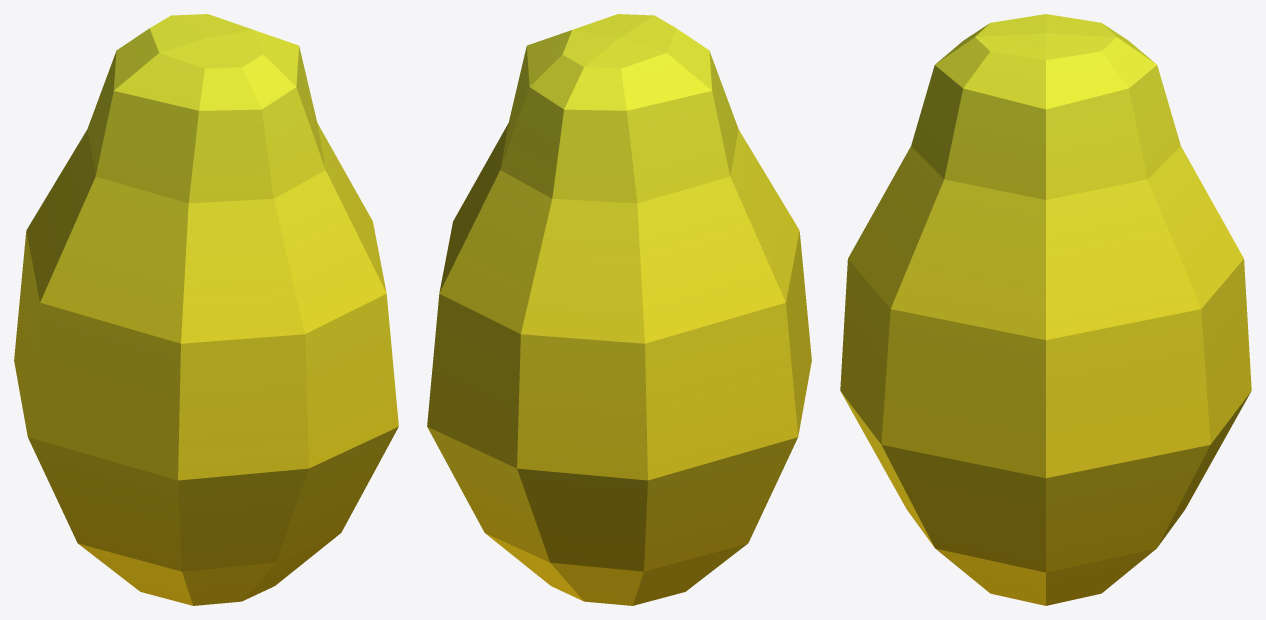
Rendered from Papaya.fbx.
3 renders of one model, left to right at view 1: azimuth 30°, elevation 25°; view 2: azimuth 150°, elevation 25°; view 3: azimuth 270°, elevation 25°, orthographic.
Visible parts, largest first — view 1: Papaya; view 2: Papaya; view 3: Papaya.
Part boxes in pixels (bbox=[...]): Papaya: bbox=[14, 14, 398, 605]; Papaya: bbox=[427, 14, 811, 605]; Papaya: bbox=[840, 14, 1251, 605].
Size of the model in its own units: 17.22 by 25.47 by 17.1.
